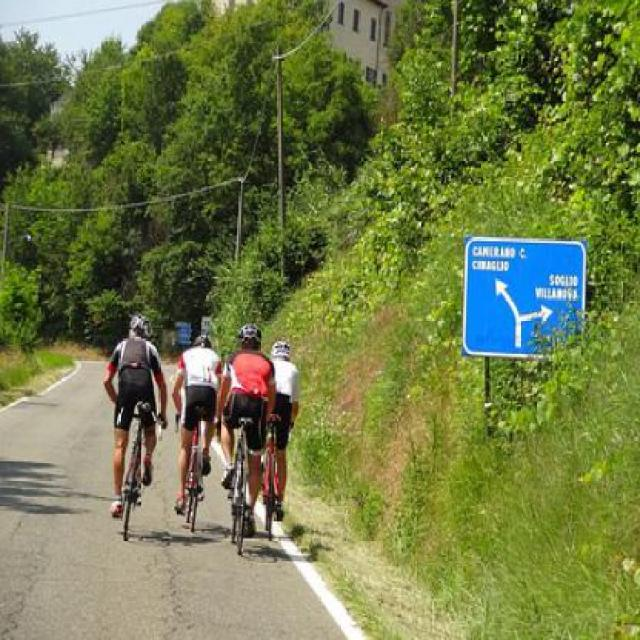Bicycle: (162, 322, 227, 544), (218, 312, 274, 559), (101, 307, 154, 542)
